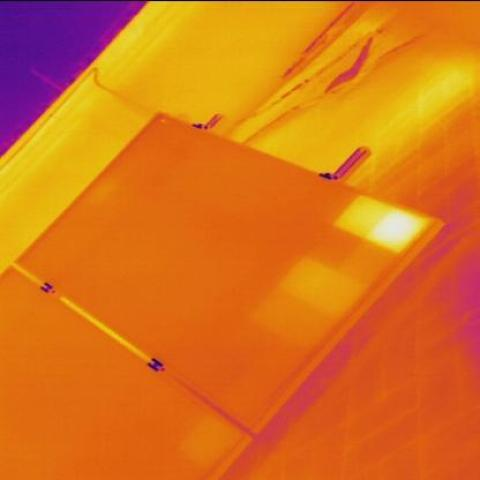fault: (376, 207, 419, 248)
